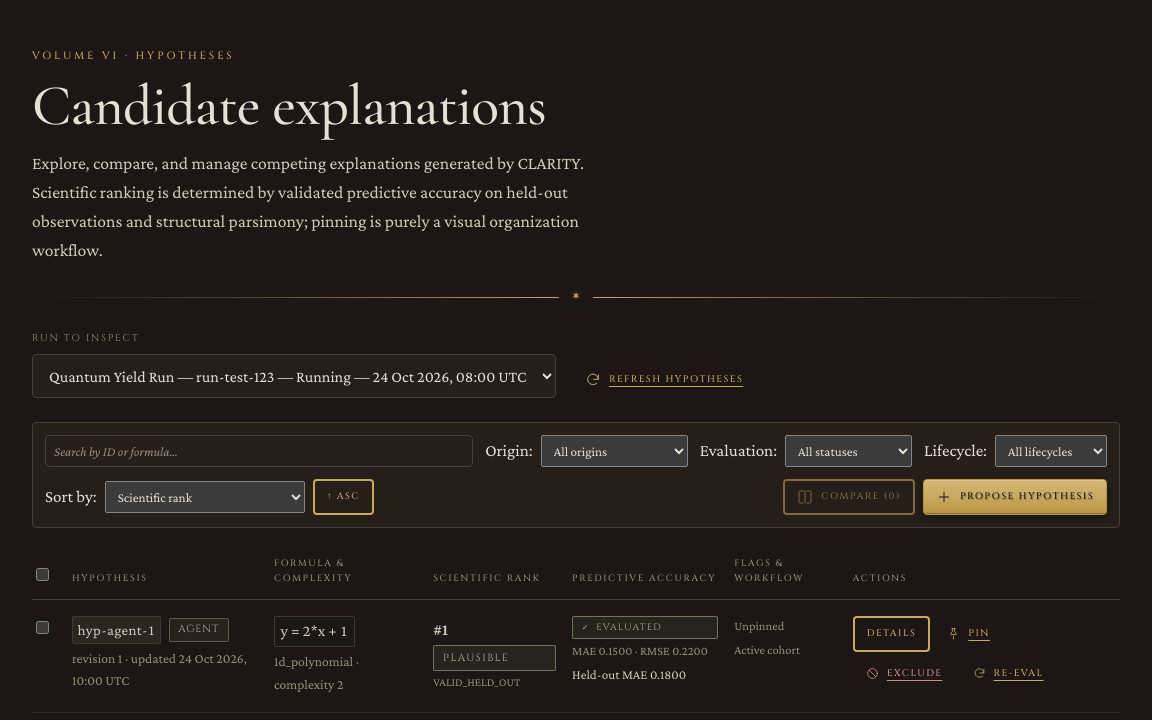
Test: HypothesesPage Component › inspects hypothesis details and classified evidence observations
The image size is (1152, 720).
Expected: the text "hyp-agent-1" is shown, [72,616,161,644]
Click the button "Details" at (892, 634), box [853,616,930,652]
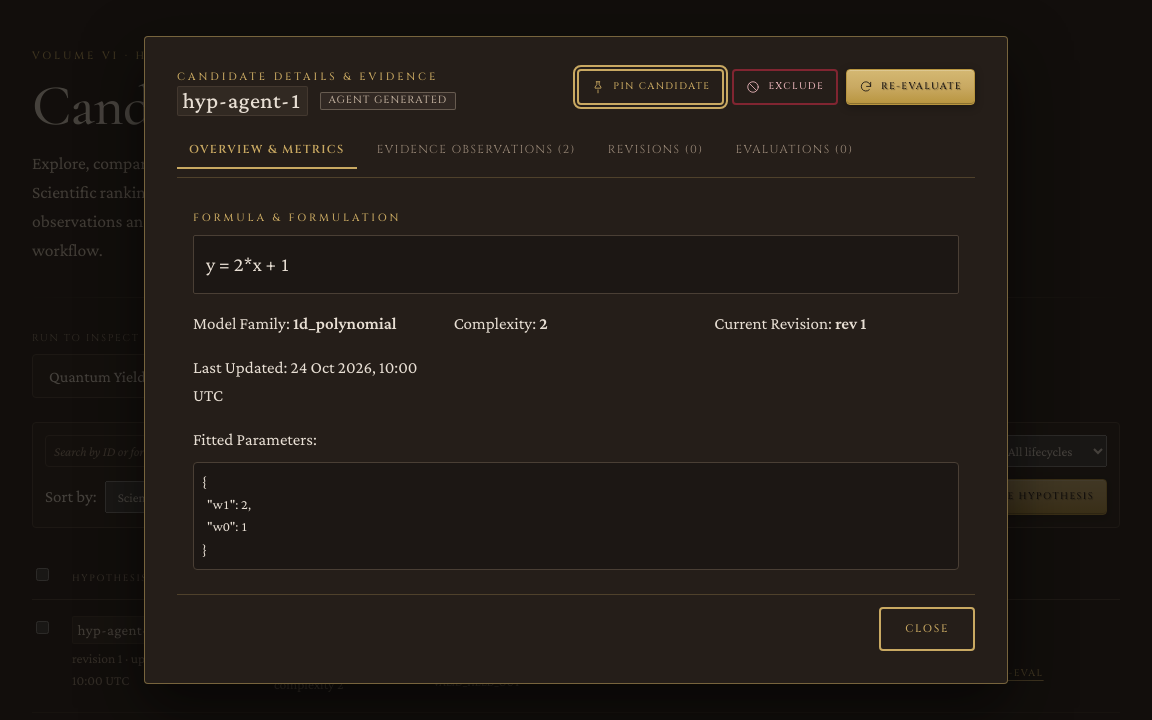
Now the text "Candidate Details & Evidence" is shown, box [177,69,456,86]
Note: Click Evidence tab
Click the tab "Evidence Observations (2)" at (476, 150), box [365,132,588,169]
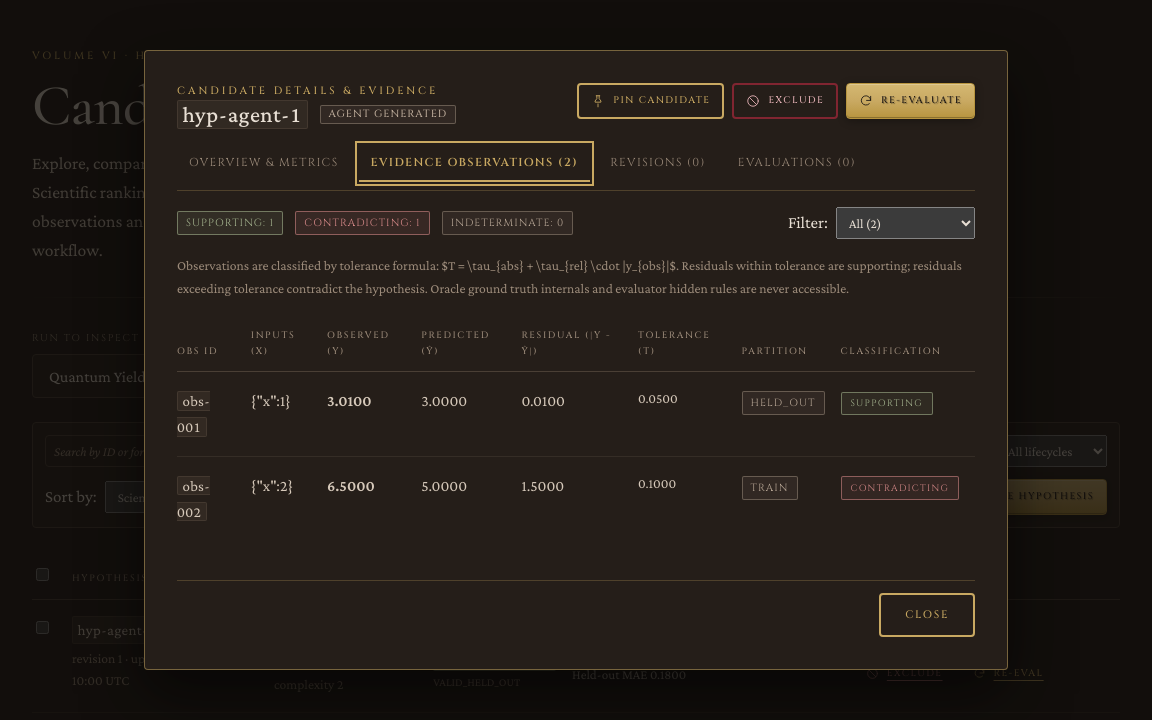
Now the text "obs-001" is shown, box [177,391,210,437]
Now the text "obs-002" is shown, box [177,476,210,521]
Now the text "supporting" is shown, box [841,392,933,415]
